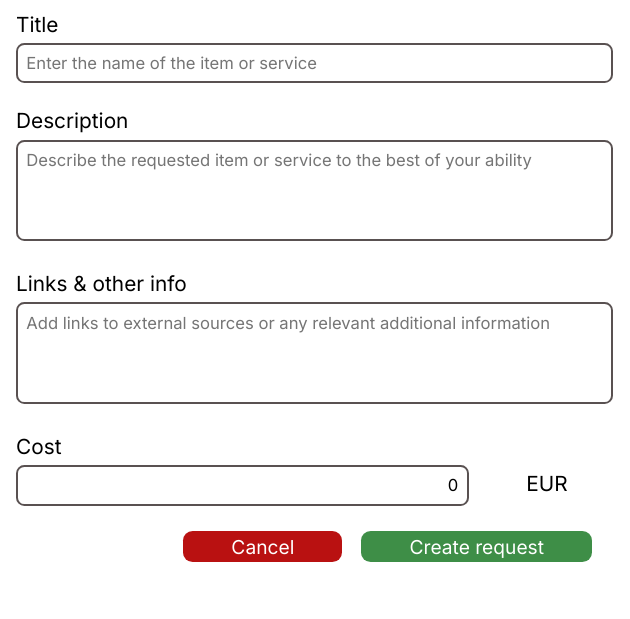
Test case: validates empty description
Type "Test Title" into the field at (314, 63), box [16,43,613,83]
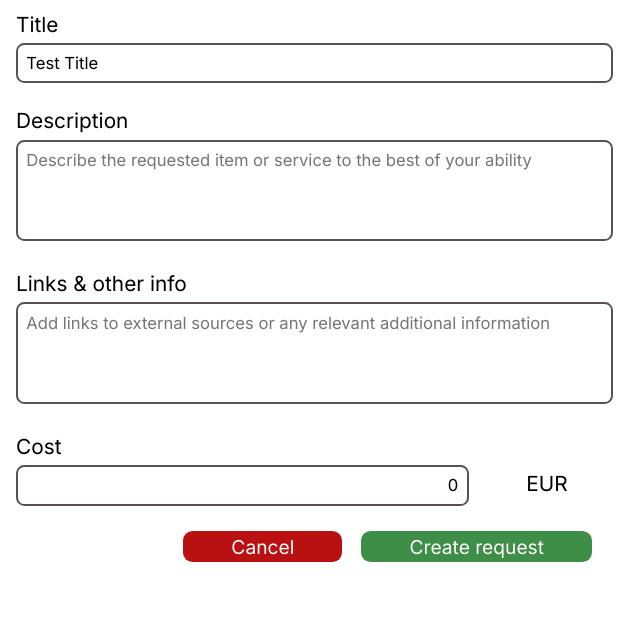
Click the button "Create request" at (477, 547), box [362,531,592,562]
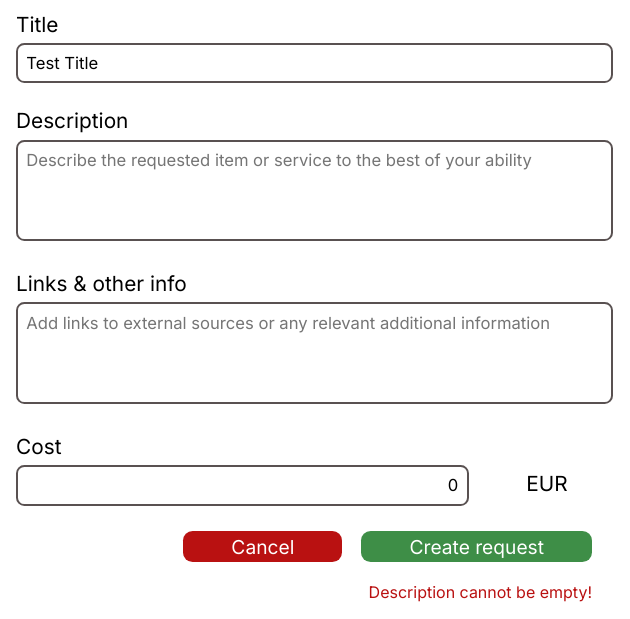
Now the text "Description cannot be empty!" is shown, box [369,582,592,602]
